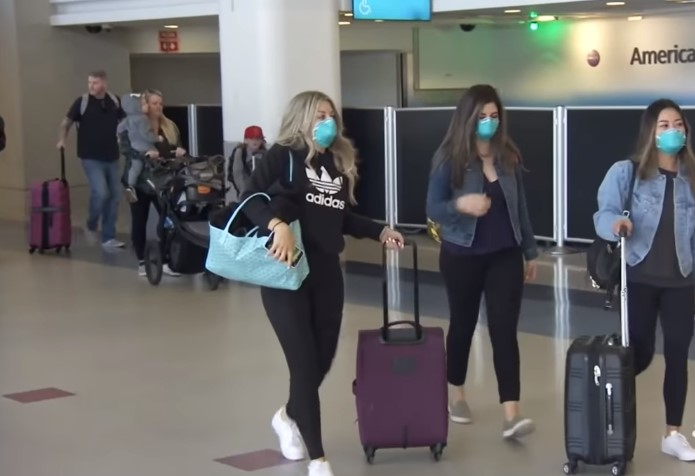face_no_mask: (84, 69, 110, 99), (141, 90, 166, 121)
face_with_mask: (283, 89, 343, 154), (641, 97, 692, 160), (459, 85, 509, 144)
